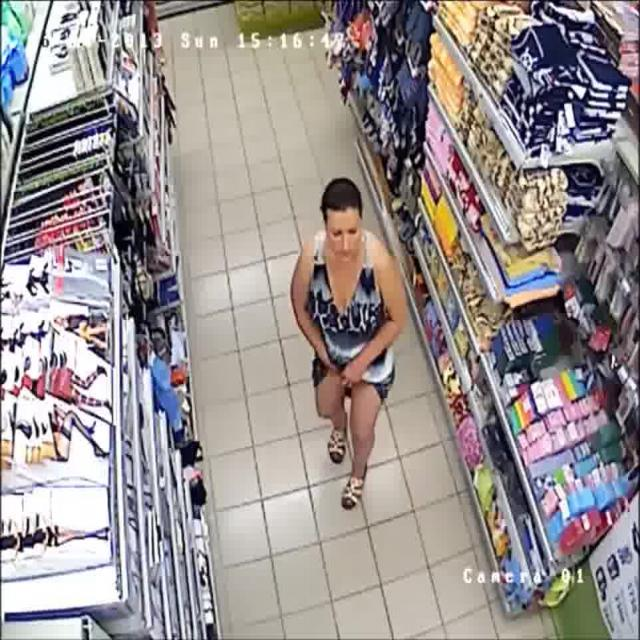persone: (287, 175, 416, 556)
